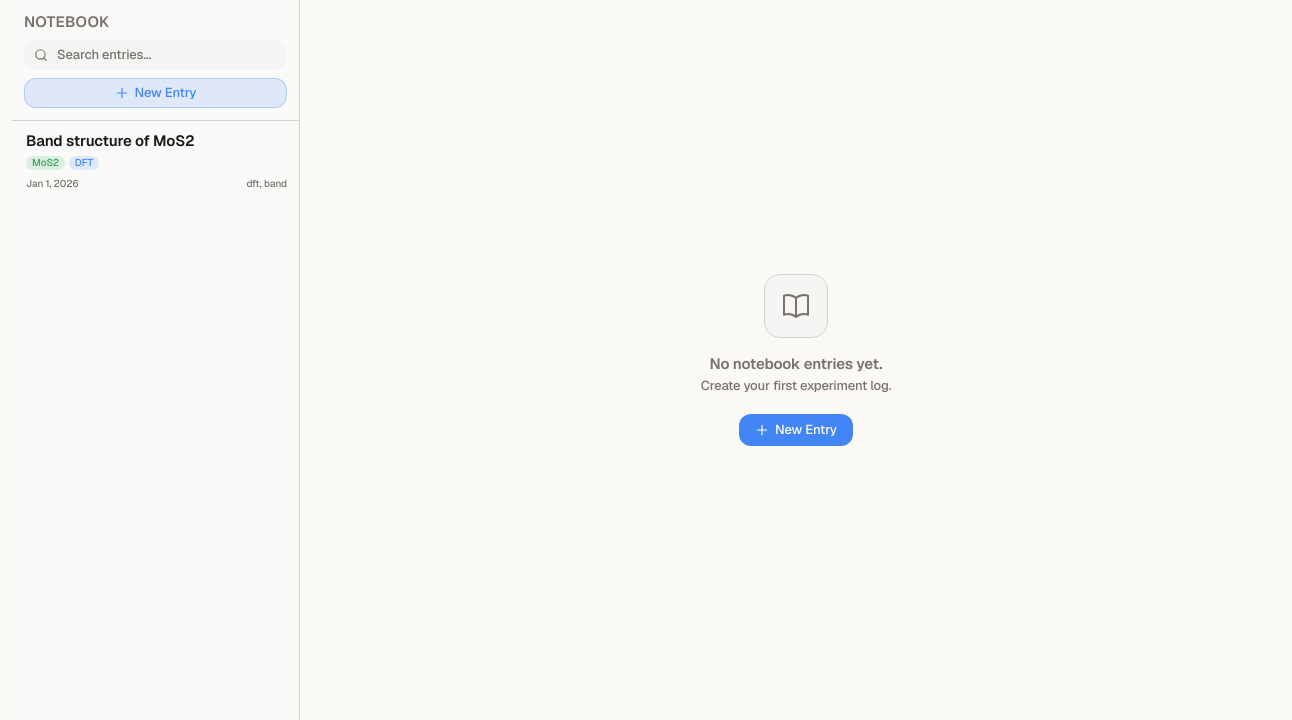
Test: Notebook › selecting an entry shows its viewer with markdown results
This screenshot has width=1292, height=720.
Step 1. Click the text "Band structure of MoS2" → (110, 140), box [26, 131, 194, 150]
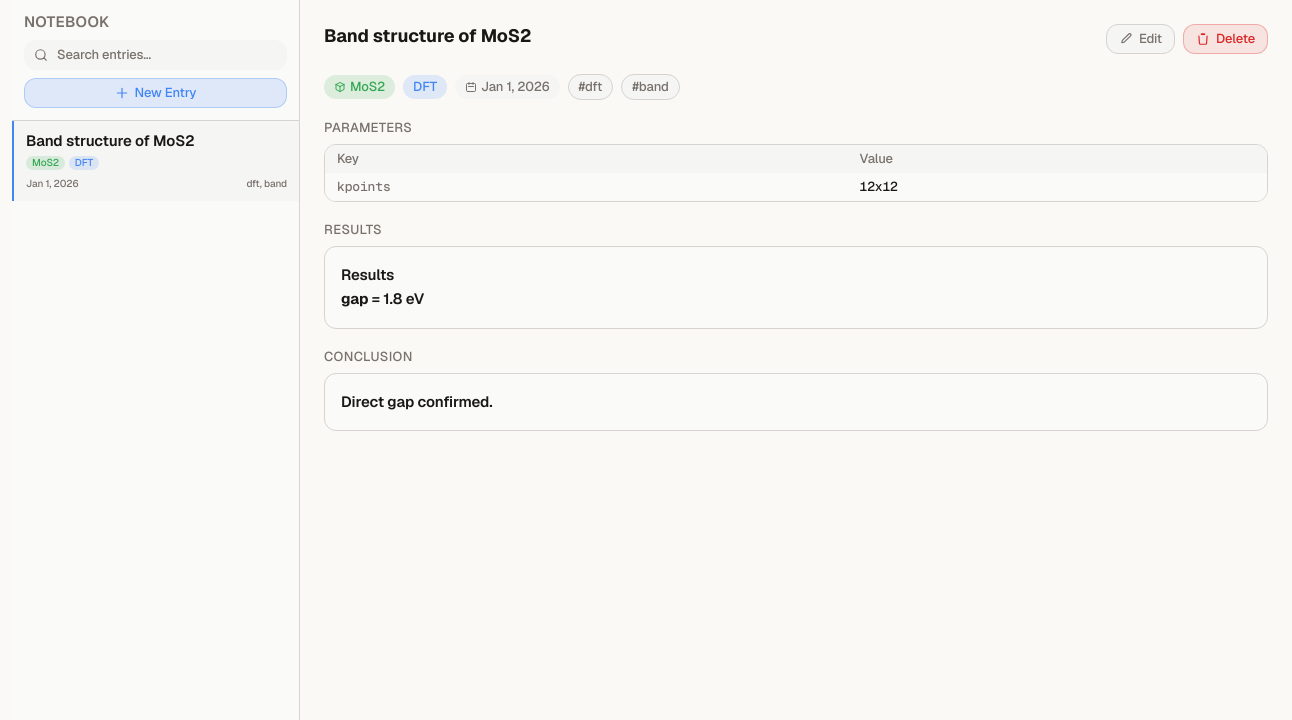
Expected: the text "MoS2" is shown, [26, 156, 65, 170]
Result: the heading "Band structure of MoS2" is shown at [324, 24, 531, 49]
Result: the text "gap = 1.8 eV" is shown at [341, 289, 424, 308]
